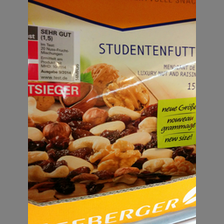nuts: (28, 1, 195, 205)
